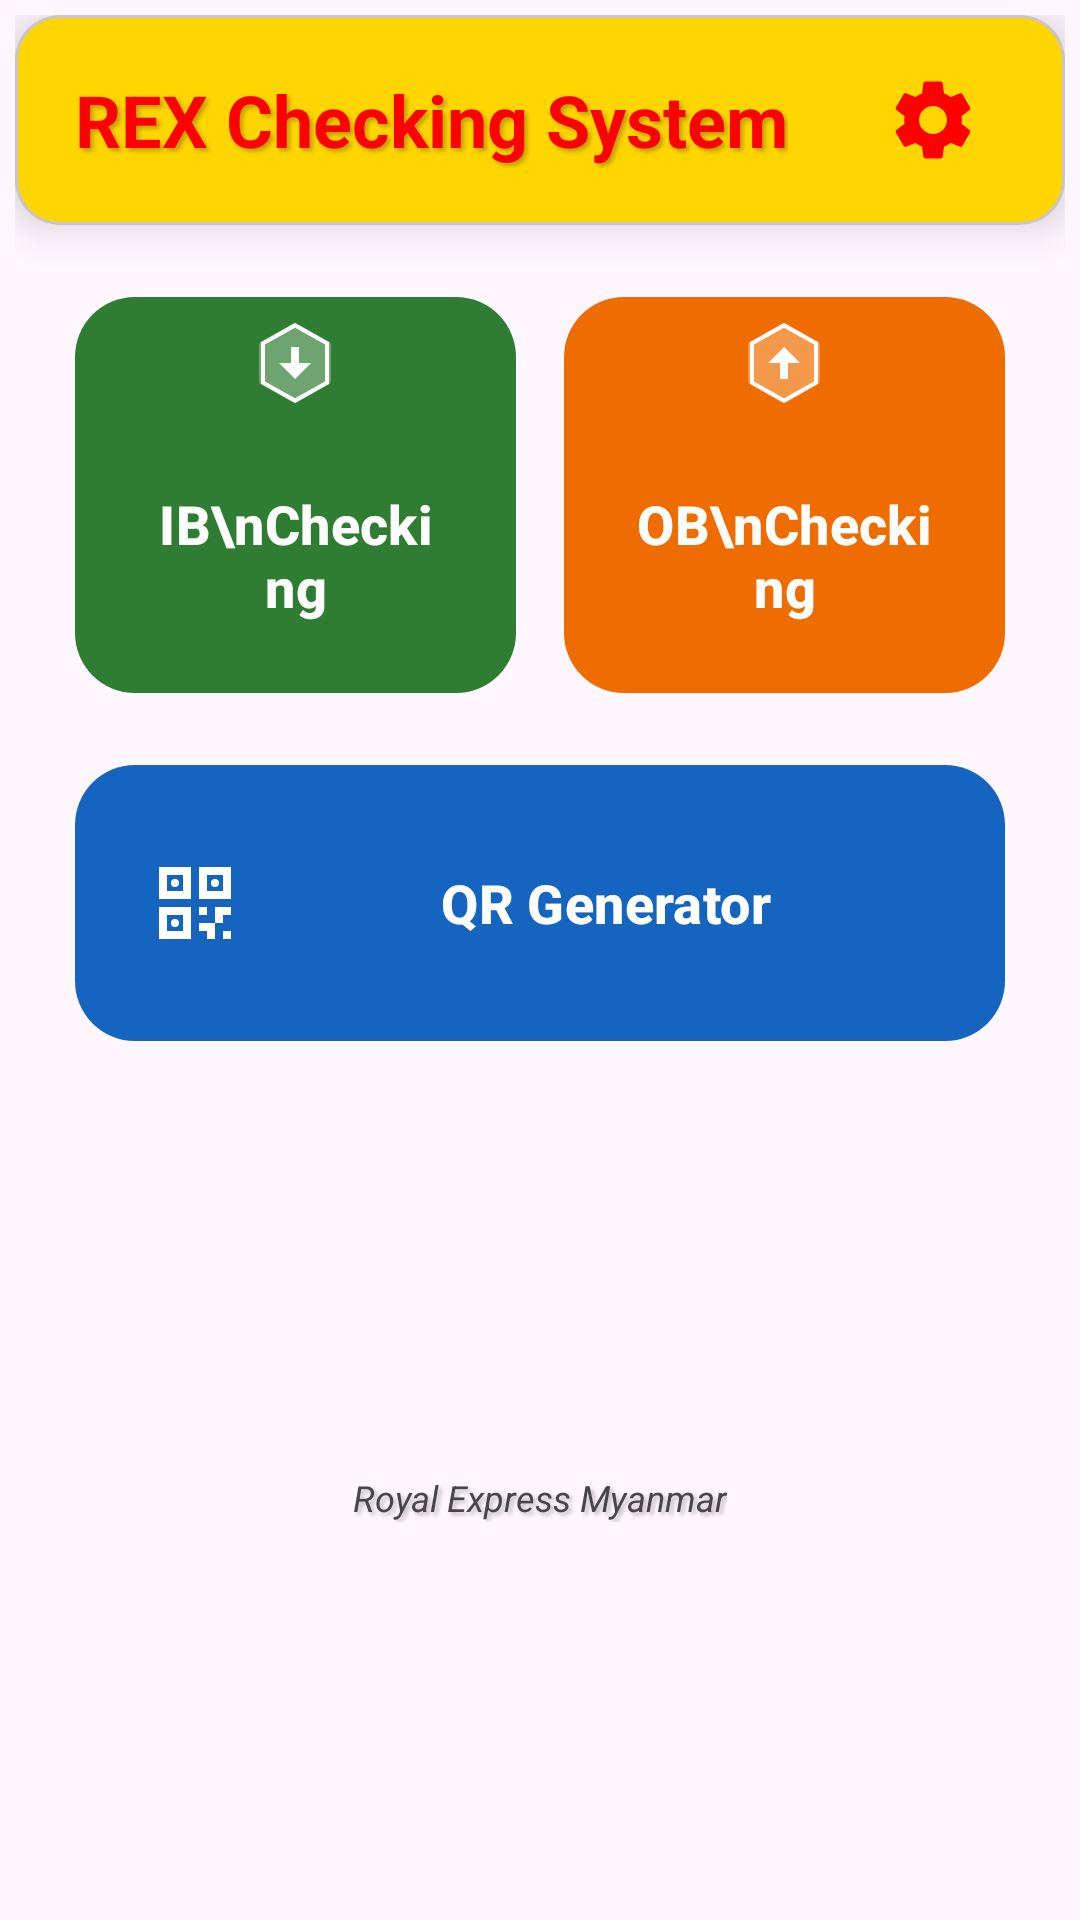

Where to tap for icons on this 1080*1920 app screen, as (x=x, y=y):
gear: (x=933, y=120)
